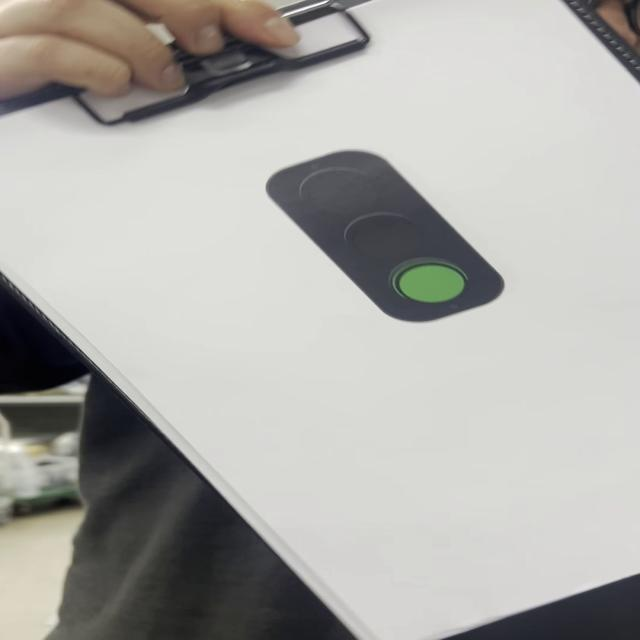green: (263, 150, 510, 327)
